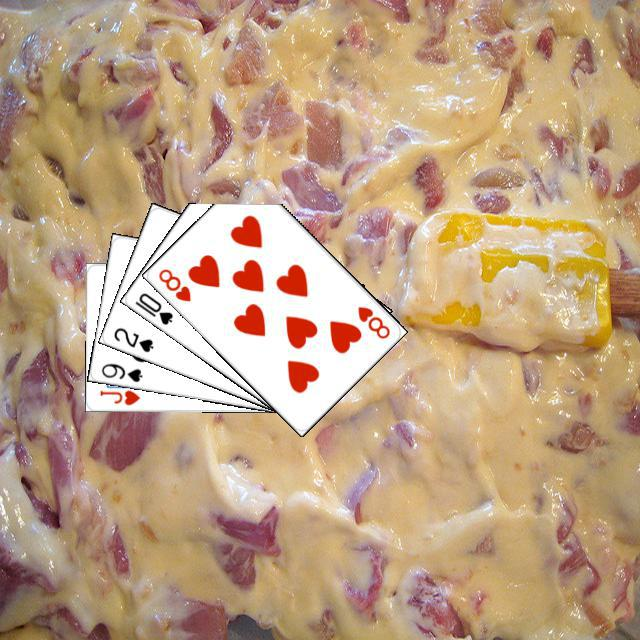10s: (130, 288, 175, 327)
2s: (109, 322, 155, 354)
8h: (154, 264, 193, 303), (352, 301, 391, 340)
9s: (96, 358, 144, 384)
Jh: (95, 386, 142, 407)
